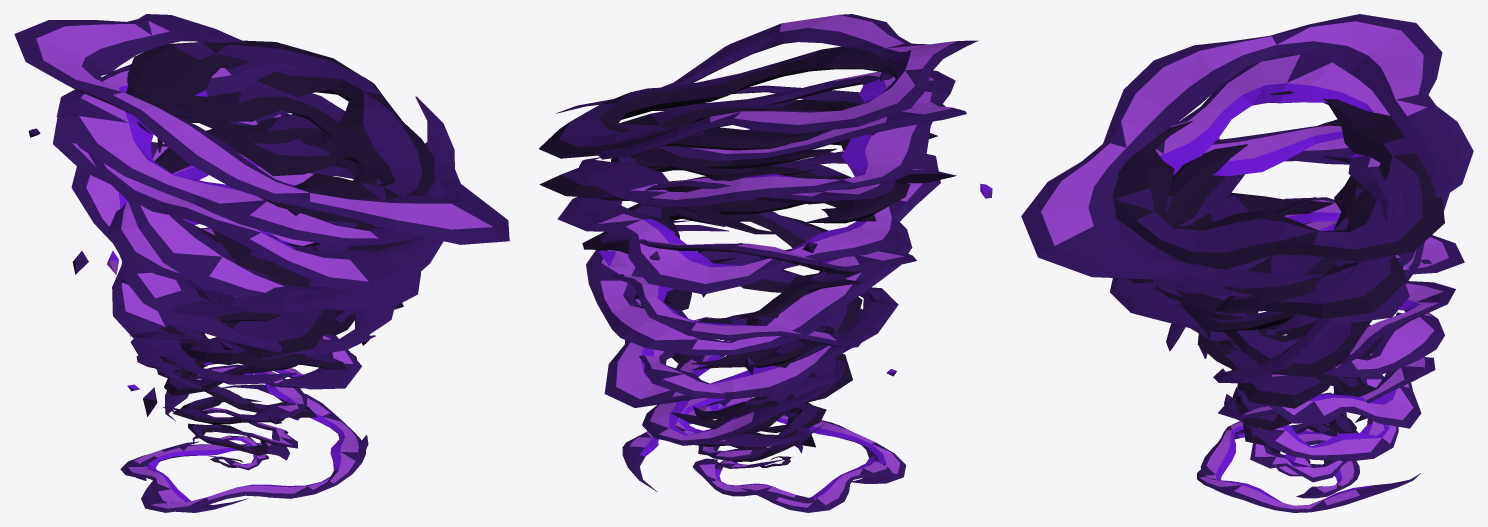
Rendered from Void_Storm.glb.
3 renders of one model, left to right at view 1: azimuth 30°, elevation 25°; view 2: azimuth 150°, elevation 25°; view 3: azimuth 270°, elevation 25°, orthographic. The views are drawn at different scales.
Parts seen in each view (by area): view 1: Wind_Ribbon_28.001, Wind_Ribbon_27.001, Wind_Ribbon_26.002, Wind_Ribbon_24.003, Wind_Ribbon_22.005, Wind_Ribbon_18.005, Wind_Ribbon_20.005, Wind_Ribbon_25.003, Wind_Ribbon_14.006, Wind_Ribbon_23.004, Wind_Ribbon_21.005, Wind_Ribbon_17.005 (+16 smaller); view 2: Wind_Ribbon_28.001, Wind_Ribbon_20.005, Wind_Ribbon_27.001, Wind_Ribbon_24.003, Wind_Ribbon_16.006, Wind_Ribbon_12.006, Wind_Ribbon_26.002, Wind_Ribbon_25.003, Wind_Ribbon_08.007, Wind_Ribbon_14.006, Wind_Ribbon_18.005, Wind_Ribbon_19.005 (+18 smaller); view 3: Wind_Ribbon_28.001, Wind_Ribbon_27.001, Wind_Ribbon_26.002, Wind_Ribbon_19.005, Wind_Ribbon_23.004, Wind_Ribbon_25.003, Wind_Ribbon_22.005, Wind_Ribbon_24.003, Wind_Ribbon_12.006, Wind_Ribbon_16.006, Wind_Ribbon_08.007, Wind_Ribbon_14.006 (+13 smaller).
Part boxes in pixels (left/top/right/bottom): Wind_Ribbon_28.001: left=14, top=14, right=509, bottom=244; Wind_Ribbon_27.001: left=126, top=40, right=435, bottom=224; Wind_Ribbon_26.002: left=56, top=56, right=445, bottom=246; Wind_Ribbon_24.003: left=88, top=93, right=443, bottom=293; Wind_Ribbon_22.005: left=53, top=113, right=420, bottom=310; Wind_Ribbon_18.005: left=71, top=142, right=375, bottom=355; Wind_Ribbon_20.005: left=107, top=153, right=357, bottom=314; Wind_Ribbon_25.003: left=153, top=80, right=435, bottom=252; Wind_Ribbon_14.006: left=112, top=219, right=394, bottom=384; Wind_Ribbon_23.004: left=157, top=114, right=363, bottom=284; Wind_Ribbon_21.005: left=154, top=129, right=363, bottom=287; Wind_Ribbon_17.005: left=205, top=293, right=335, bottom=358; Wind_Ribbon_28.001: left=556, top=14, right=978, bottom=159; Wind_Ribbon_20.005: left=557, top=151, right=940, bottom=294; Wind_Ribbon_27.001: left=539, top=46, right=897, bottom=158; Wind_Ribbon_24.003: left=579, top=85, right=932, bottom=208; Wind_Ribbon_16.006: left=586, top=222, right=912, bottom=355; Wind_Ribbon_12.006: left=604, top=287, right=898, bottom=407; Wind_Ribbon_26.002: left=591, top=70, right=966, bottom=161; Wind_Ribbon_25.003: left=617, top=99, right=876, bottom=168; Wind_Ribbon_08.007: left=642, top=340, right=846, bottom=443; Wind_Ribbon_14.006: left=612, top=274, right=862, bottom=347; Wind_Ribbon_18.005: left=613, top=219, right=916, bottom=273; Wind_Ribbon_19.005: left=582, top=183, right=910, bottom=263; Wind_Ribbon_28.001: left=1021, top=14, right=1473, bottom=288; Wind_Ribbon_27.001: left=1112, top=91, right=1444, bottom=269; Wind_Ribbon_26.002: left=1116, top=53, right=1403, bottom=296; Wind_Ribbon_19.005: left=1182, top=192, right=1371, bottom=377; Wind_Ribbon_23.004: left=1173, top=156, right=1406, bottom=319; Wind_Ribbon_25.003: left=1129, top=119, right=1365, bottom=302; Wind_Ribbon_22.005: left=1110, top=121, right=1415, bottom=339; Wind_Ribbon_24.003: left=1173, top=125, right=1449, bottom=286; Wind_Ribbon_12.006: left=1267, top=324, right=1421, bottom=428; Wind_Ribbon_16.006: left=1233, top=309, right=1444, bottom=377; Wind_Ribbon_08.007: left=1249, top=374, right=1398, bottom=461; Wind_Ribbon_14.006: left=1199, top=281, right=1455, bottom=383.
Bounding box in the file's own units: 10 × 10.94 × 11.65.
